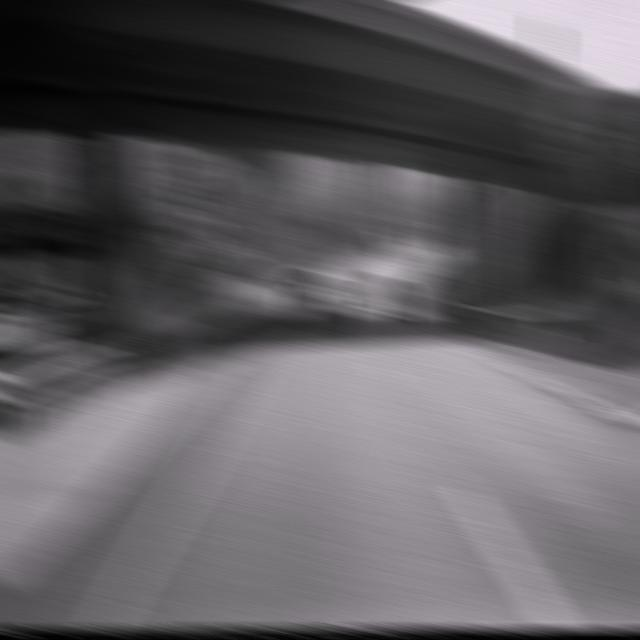speedLimit45: (156, 140, 210, 238)
